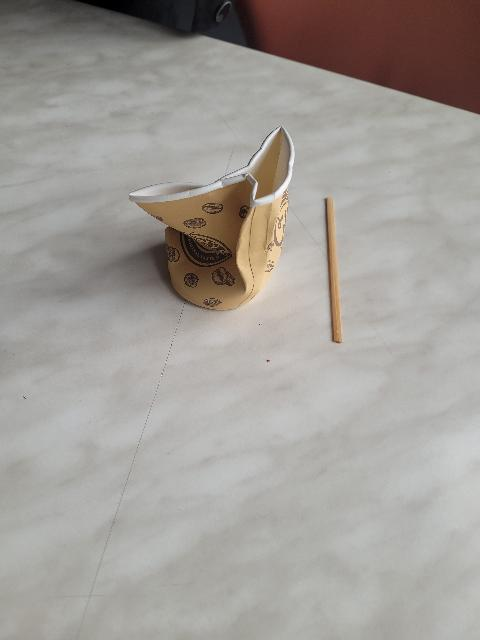Kagit: (120, 123, 299, 328)
